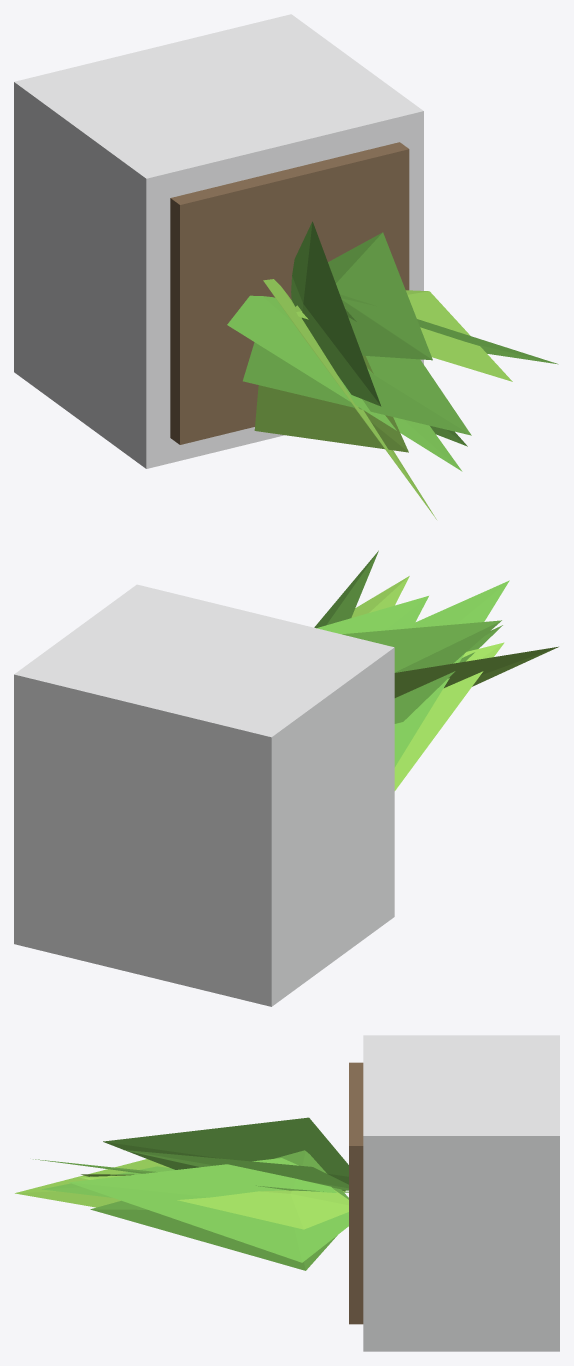
The model's file is 32_plant_small.glb.
3 views of the same model, one above another, from view 1: azimuth 30°, elevation 25°; view 2: azimuth 150°, elevation 25°; view 3: azimuth 270°, elevation 25° (orthographic). The views are drawn at different scales.
Visible parts, largest first — view 1: part_1, part_2, part_4, part_8, part_5, part_9, part_7, part_3, part_6, part_11; view 2: part_1, part_5, part_8, part_9, part_6, part_4, part_7, part_11, part_3; view 3: part_1, part_11, part_5, part_3, part_2, part_10, part_4, part_6, part_7, part_8.
Boxes of the visible parts, x1,y1,x2,y2 form: part_1: [14, 14, 423, 468]; part_2: [170, 142, 409, 444]; part_4: [291, 232, 432, 360]; part_8: [243, 342, 471, 435]; part_5: [291, 221, 381, 406]; part_9: [254, 355, 408, 452]; part_7: [227, 295, 462, 471]; part_3: [294, 290, 512, 381]; part_6: [263, 279, 436, 519]; part_11: [340, 294, 558, 364]; part_1: [14, 584, 394, 1006]; part_5: [342, 620, 501, 672]; part_8: [394, 580, 509, 767]; part_9: [394, 642, 504, 790]; part_6: [394, 646, 558, 697]; part_4: [317, 596, 428, 634]; part_7: [394, 625, 502, 723]; part_11: [314, 550, 378, 628]; part_3: [351, 576, 409, 617]; part_1: [363, 1035, 559, 1351]; part_11: [68, 1158, 348, 1262]; part_5: [103, 1117, 348, 1191]; part_3: [79, 1175, 348, 1229]; part_2: [349, 1062, 363, 1324]; part_10: [90, 1150, 348, 1270]; part_4: [124, 1150, 348, 1190]; part_6: [15, 1159, 345, 1207]; part_7: [42, 1166, 174, 1197]; part_8: [33, 1159, 348, 1192].
Size of the model in its own units: 0.465 by 0.465 by 1.07.
